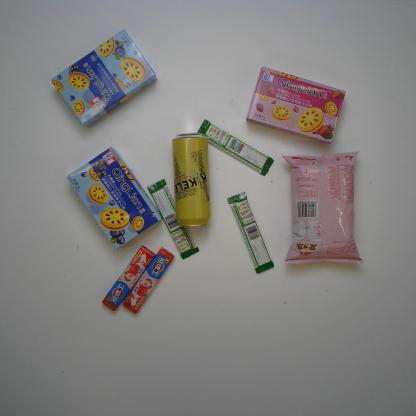Alcohol: (170, 131, 212, 229)
Candy: (98, 243, 157, 312), (123, 247, 176, 316)
Chocolate: (194, 118, 275, 178), (145, 177, 202, 260), (227, 192, 275, 276)
Dessert: (48, 29, 159, 129), (62, 146, 162, 253), (242, 63, 346, 149)
Puffed Food: (281, 150, 367, 268)
